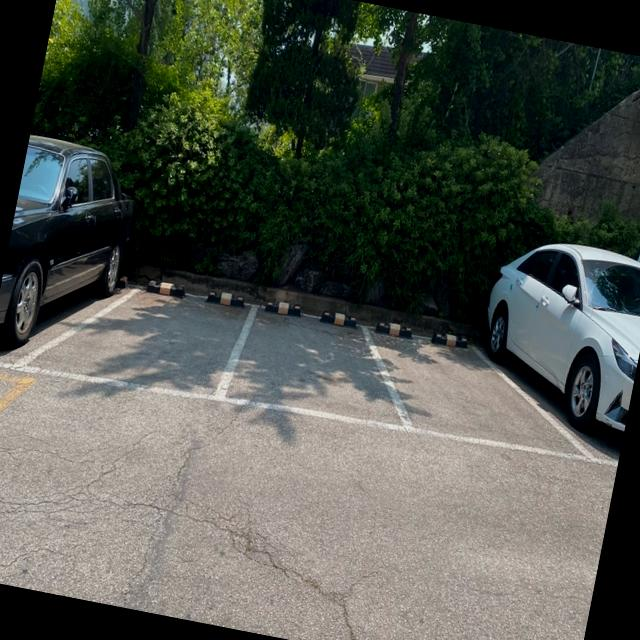free: (352, 319, 605, 468), (0, 277, 262, 410), (207, 295, 417, 438)
